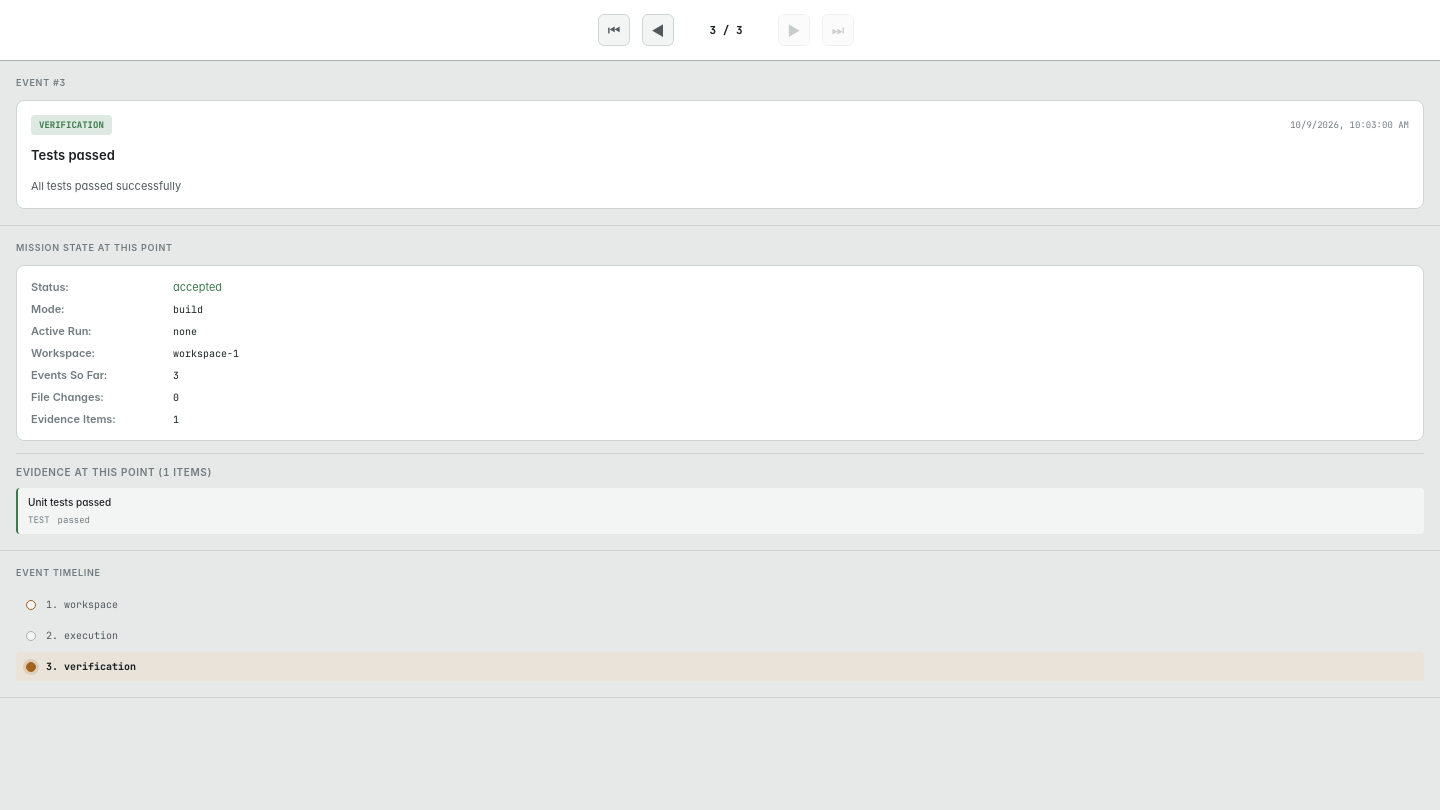
Test: MissionReplayDebugger › navigates forward through events
// Jump to first event
What coordinates should you click on to do the following:
click the button titled "First event"
I would click on:
 (614, 30)
Its box is [598, 14, 630, 46].
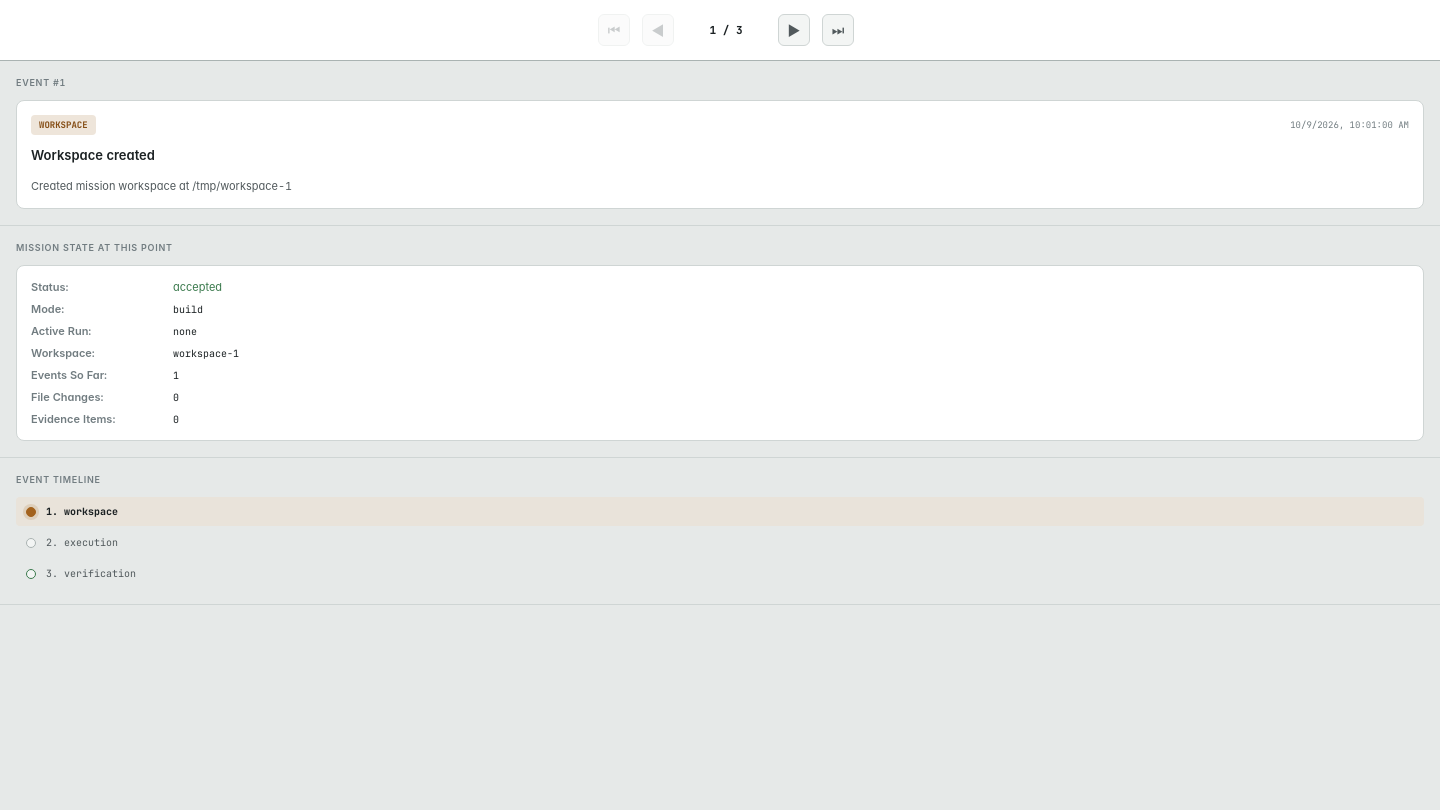
Now the text "1 / 3" is shown, box [710, 23, 742, 37]
// Go forward
What coordinates should you click on to do the following:
click the button titled "Next event"
I would click on:
 (794, 30)
Its box is [778, 14, 810, 46].
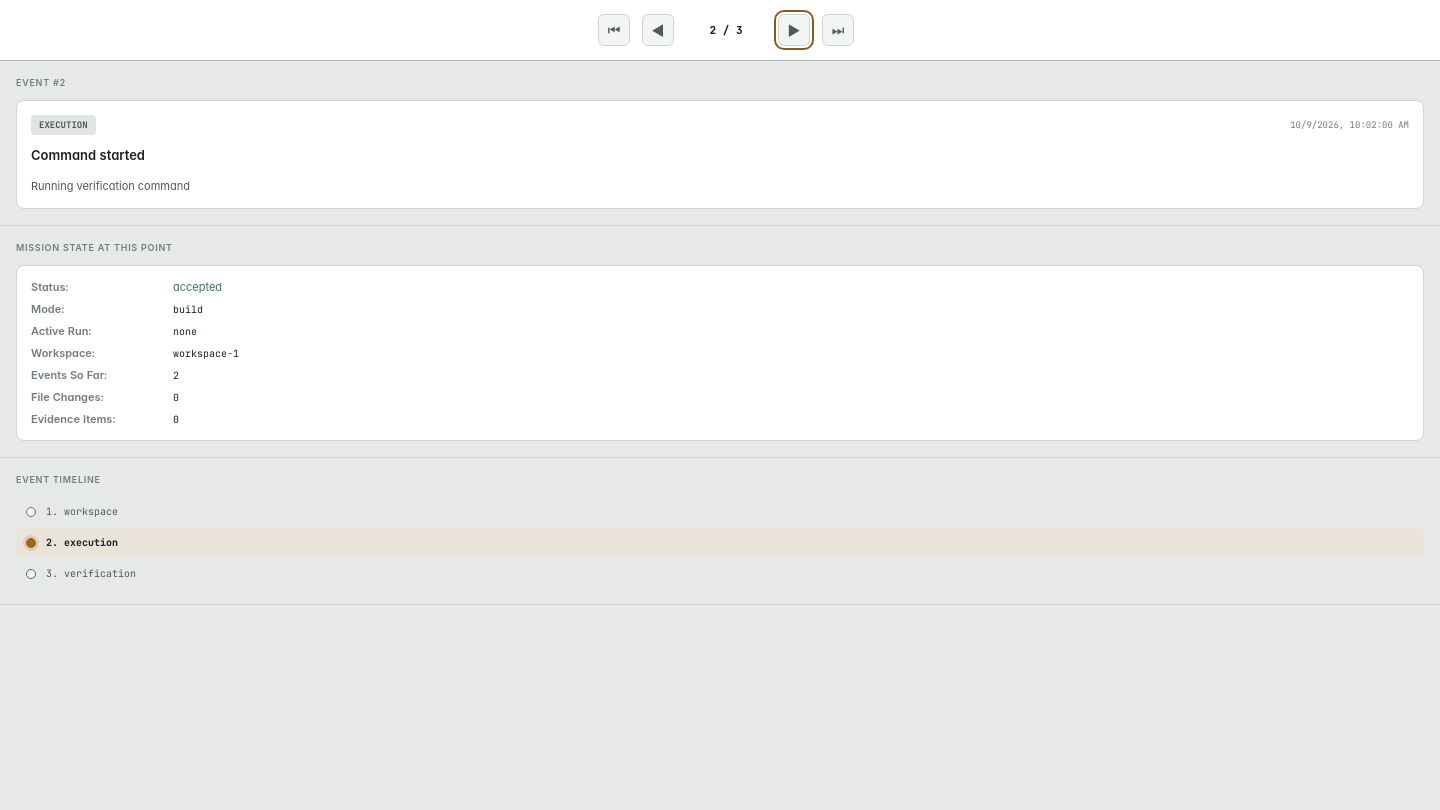
Now the text "2 / 3" is shown, box [710, 23, 742, 37]
Now the text "Command started" is shown, box [31, 147, 145, 163]
